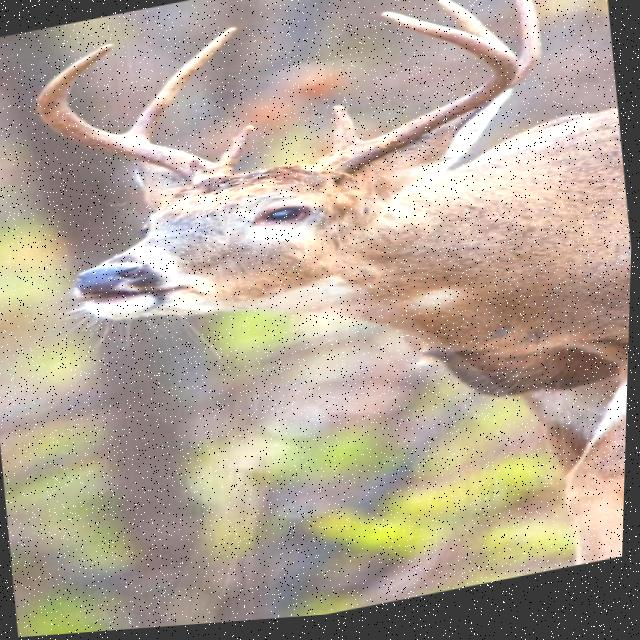L-F: (36, 44, 230, 190)
L-G1: (218, 128, 259, 172)
L-G2: (123, 30, 239, 143)
R-F: (323, 16, 522, 176)
R-G1: (330, 109, 365, 159)
